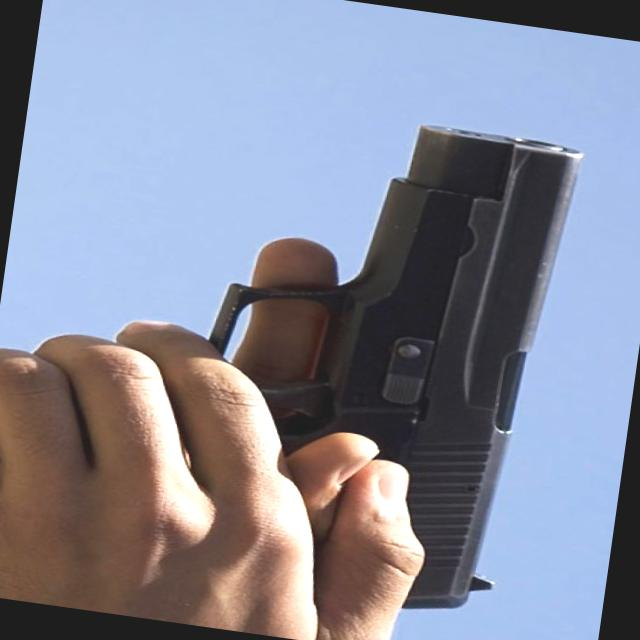handgun: (0, 73, 602, 632)
